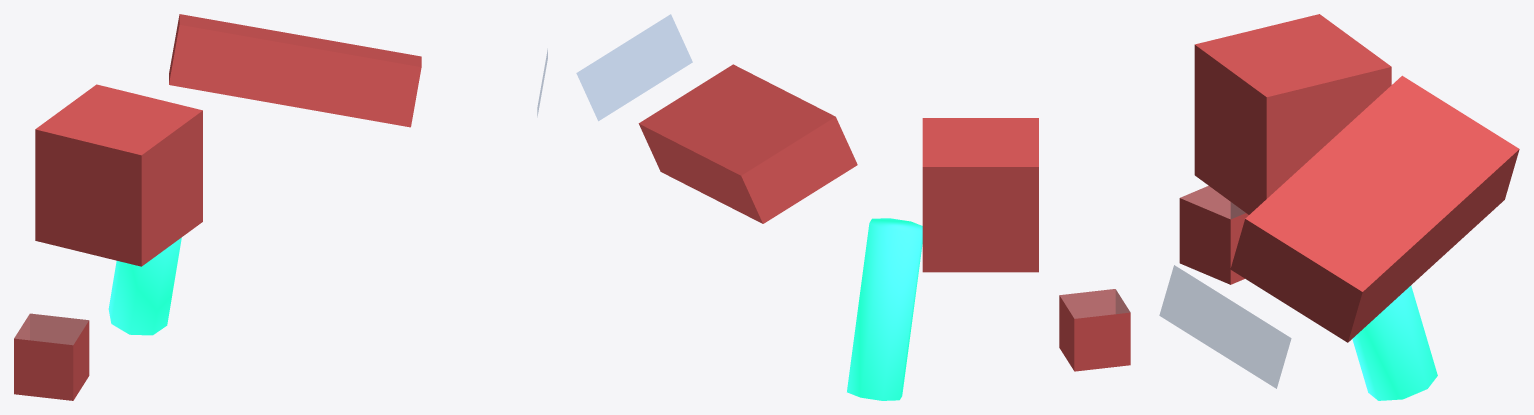
The model's file is blender_scene.glb.
3 views of the same model, side by side, from view 1: azimuth 30°, elevation 25°; view 2: azimuth 150°, elevation 25°; view 3: azimuth 270°, elevation 25° (orthographic). The views are drawn at different scales.
Visible parts, largest first — view 1: CaisseLiee, Caisse, Bicolore, Colonne; view 2: Caisse, CaisseLiee, Colonne, Vitre, Bicolore; view 3: Caisse, CaisseLiee, Vitre, Colonne, Bicolore.
Part boxes in pixels (x1,y1,x2,y2): CaisseLiee: (35,84,202,266); Caisse: (169,14,421,127); Bicolore: (14,313,89,400); Colonne: (108,237,181,335); Caisse: (638,64,857,223); CaisseLiee: (922,118,1038,272); Colonne: (847,218,922,400); Vitre: (576,14,692,120); Bicolore: (1059,289,1130,371); Caisse: (1230,75,1519,342); CaisseLiee: (1194,14,1391,214); Vitre: (1159,265,1291,388); Colonne: (1352,285,1437,400); Bicolore: (1179,185,1248,284).
Size of the model in its own units: 10.52 by 5.21 by 4.99.
